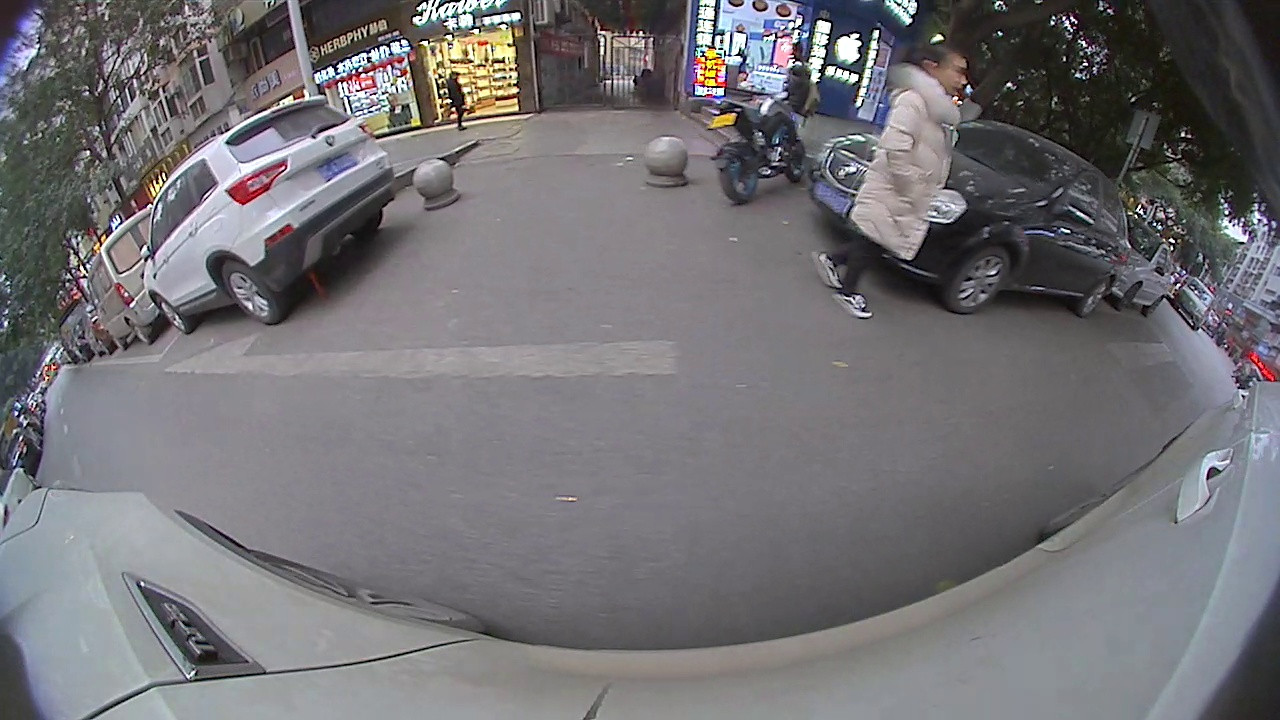car: (807, 117, 1128, 317), (143, 97, 398, 335), (85, 204, 173, 351), (1108, 216, 1174, 316), (2, 464, 39, 525), (4, 425, 46, 478), (1173, 276, 1212, 326)
front: (947, 245, 1012, 309), (150, 297, 194, 337)
person: (888, 39, 964, 317)
rear: (213, 264, 282, 323), (712, 148, 765, 204), (1083, 272, 1112, 319)
rider: (709, 70, 811, 206)
